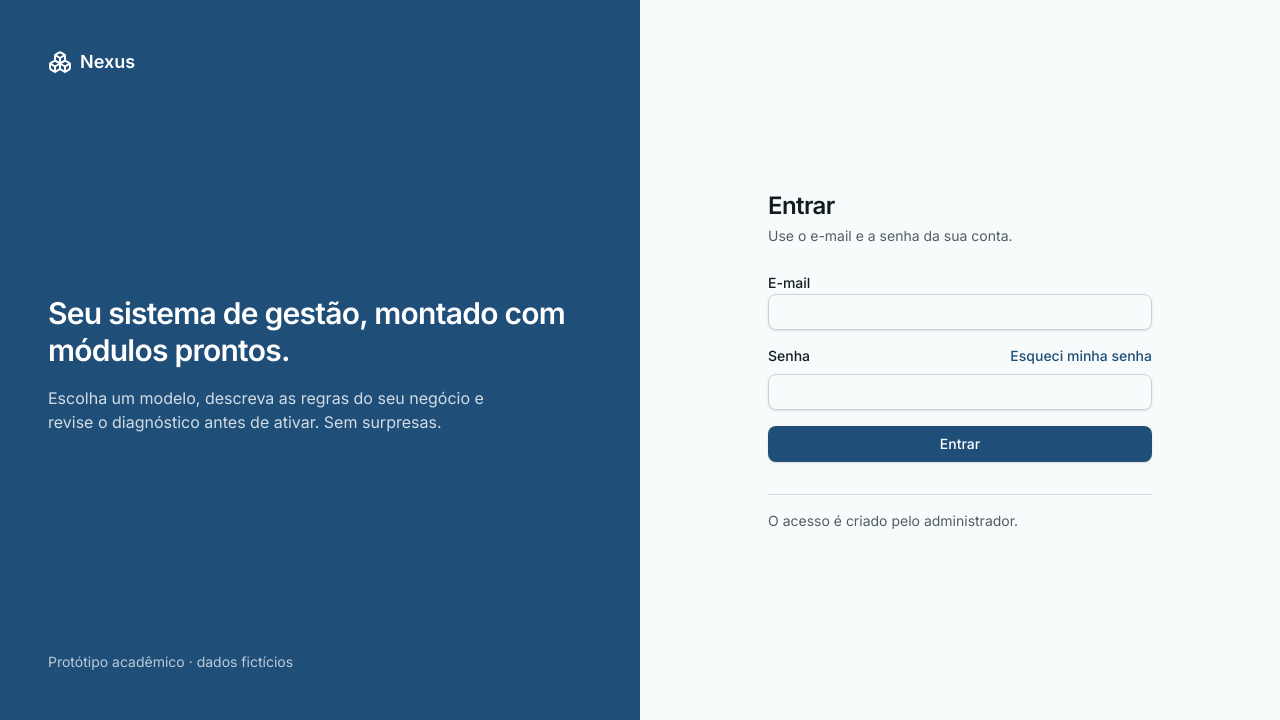
Test: Entrar › mostra a mensagem certa para credenciais_invalidas
Type "pessoa@exemplo.com" into the field labelled "E-mail" at (960, 312), box [768, 294, 1152, 330]
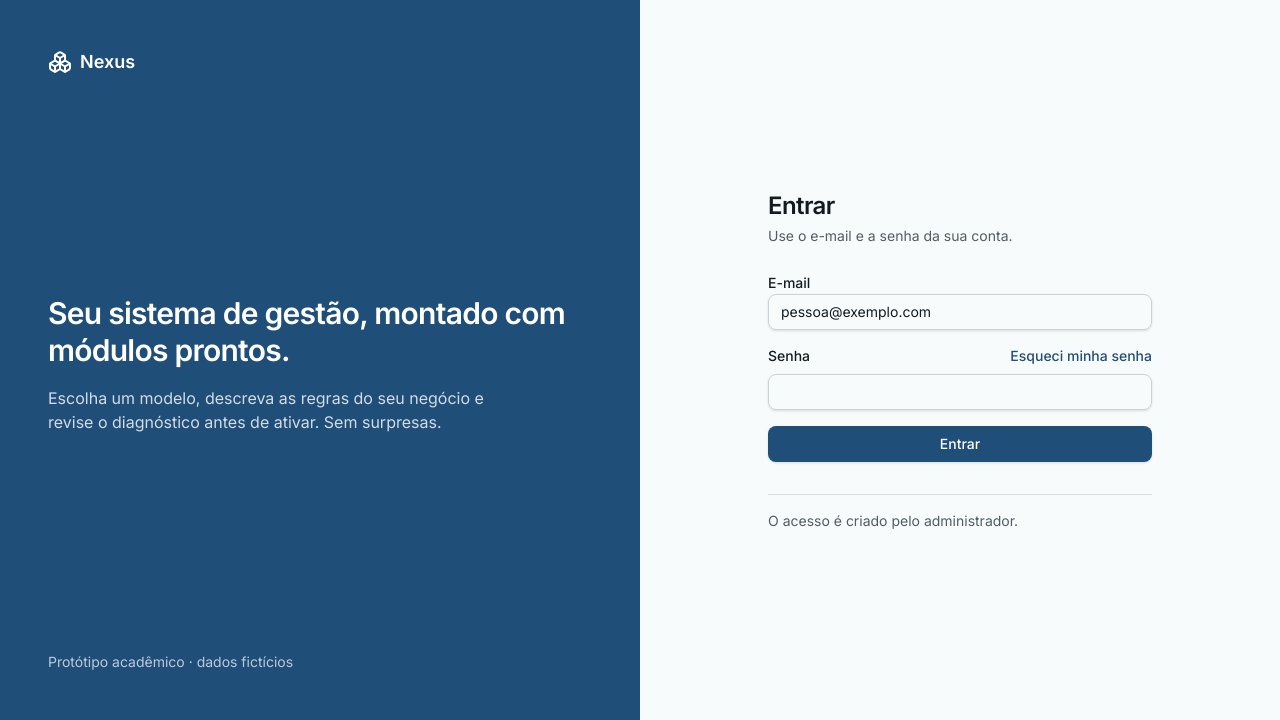
Type "senha-ficticia" into the password field labelled "Senha" at (960, 392), box [768, 374, 1152, 410]
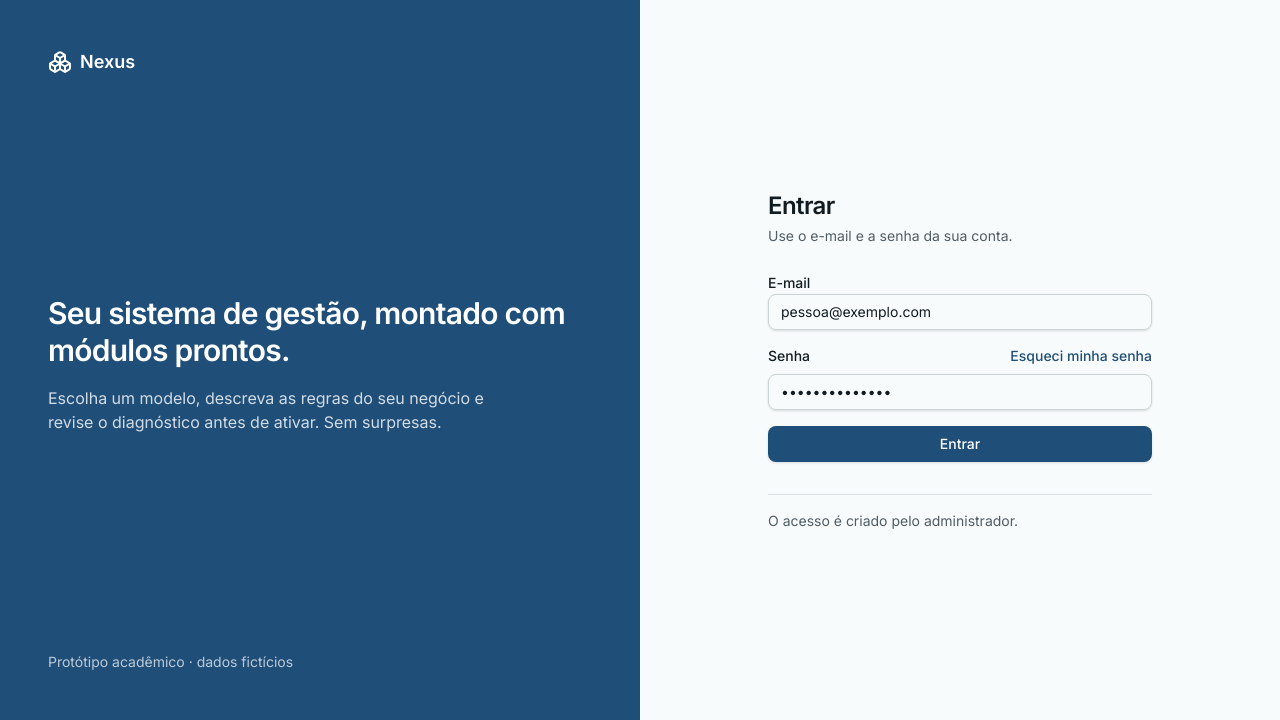
Click the button "Entrar" at (960, 444), box [768, 426, 1152, 462]
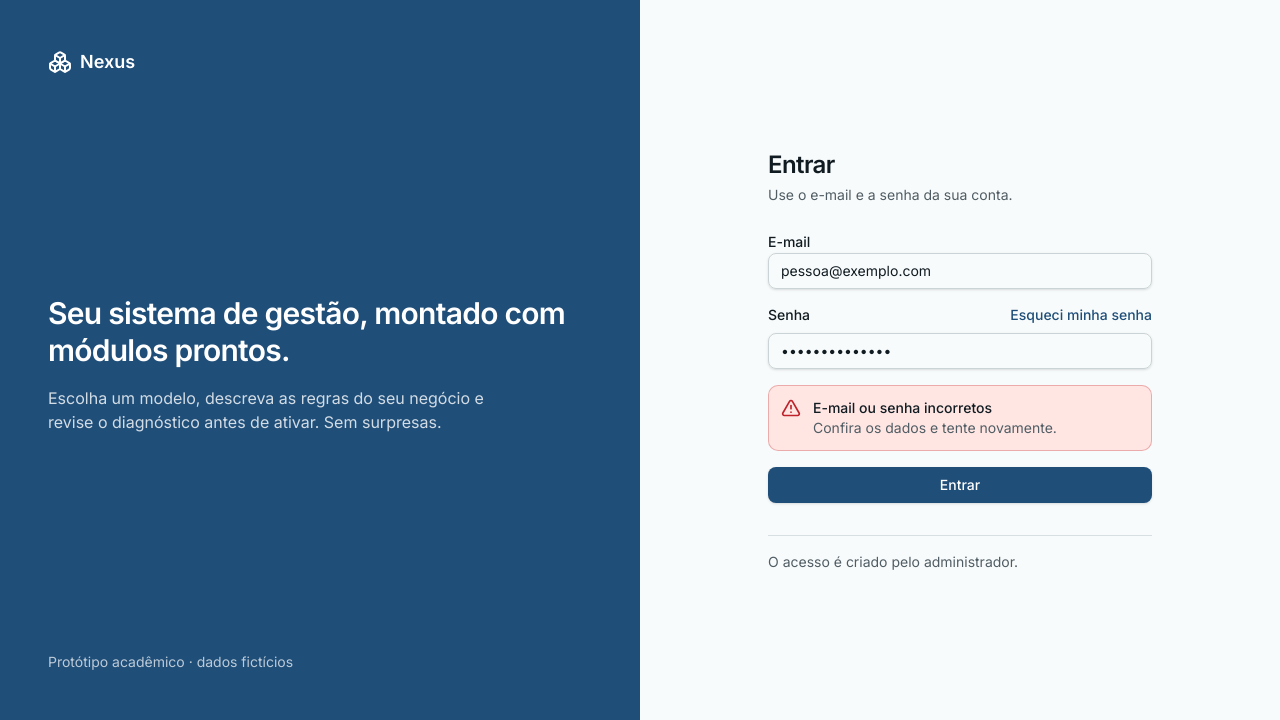
Now the text "E-mail ou senha incorretos" is shown, box [813, 398, 992, 416]
